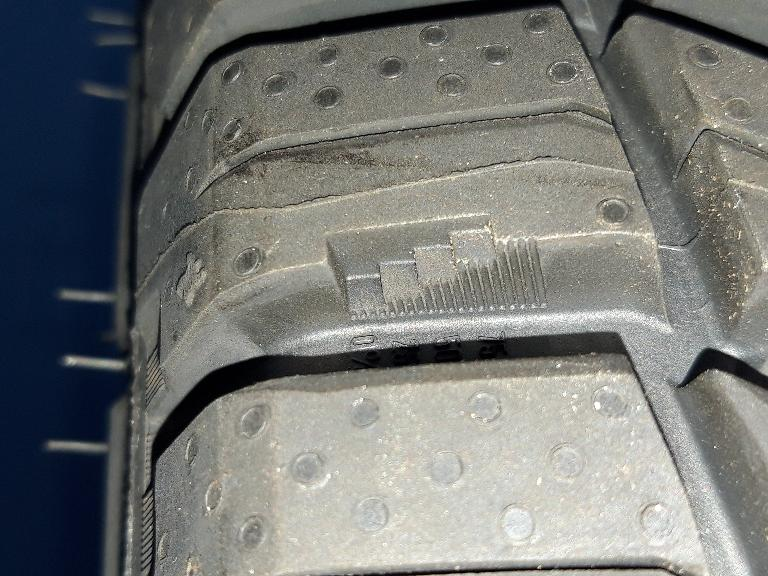temoin:100: (316, 205, 557, 331)
